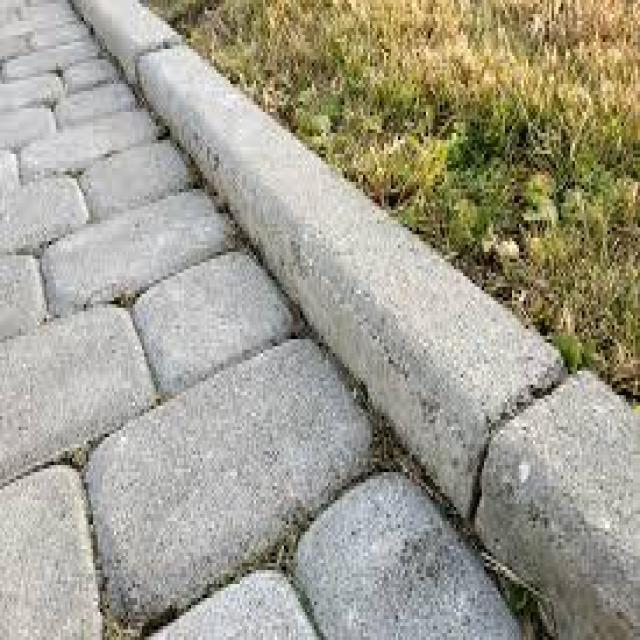curb: (320, 196, 640, 640), (69, 1, 301, 315)
